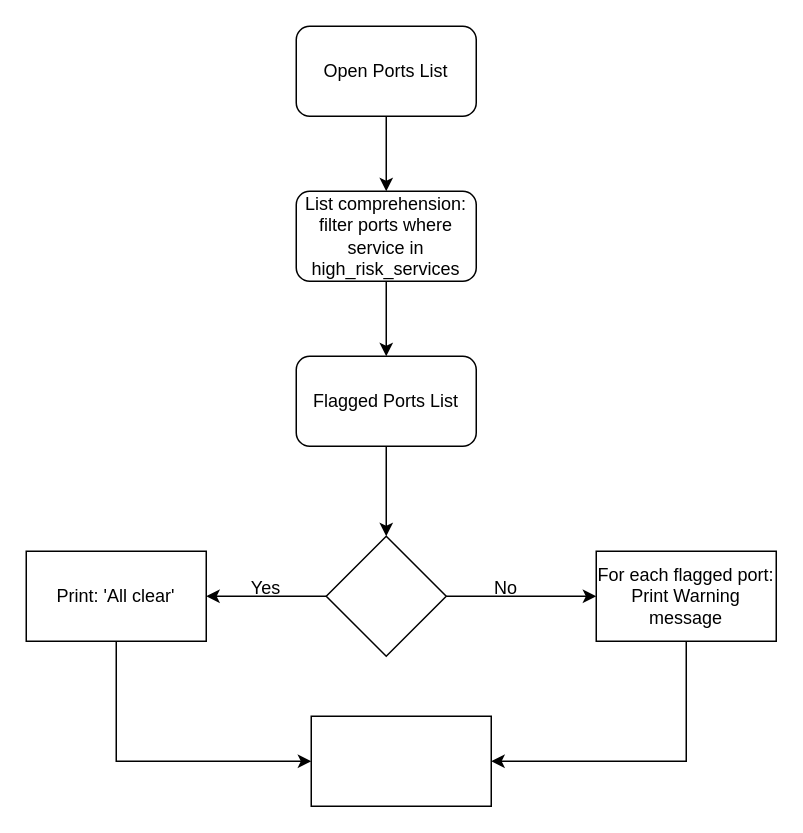
This 803x833 diagram has some shape labels left out. The shapes that lost their labels are listed below. From the top down, each one's centre as x and y in pixels, then its label:
At point 385,595: "Empty?".
At point 400,760: "End of Feature".
